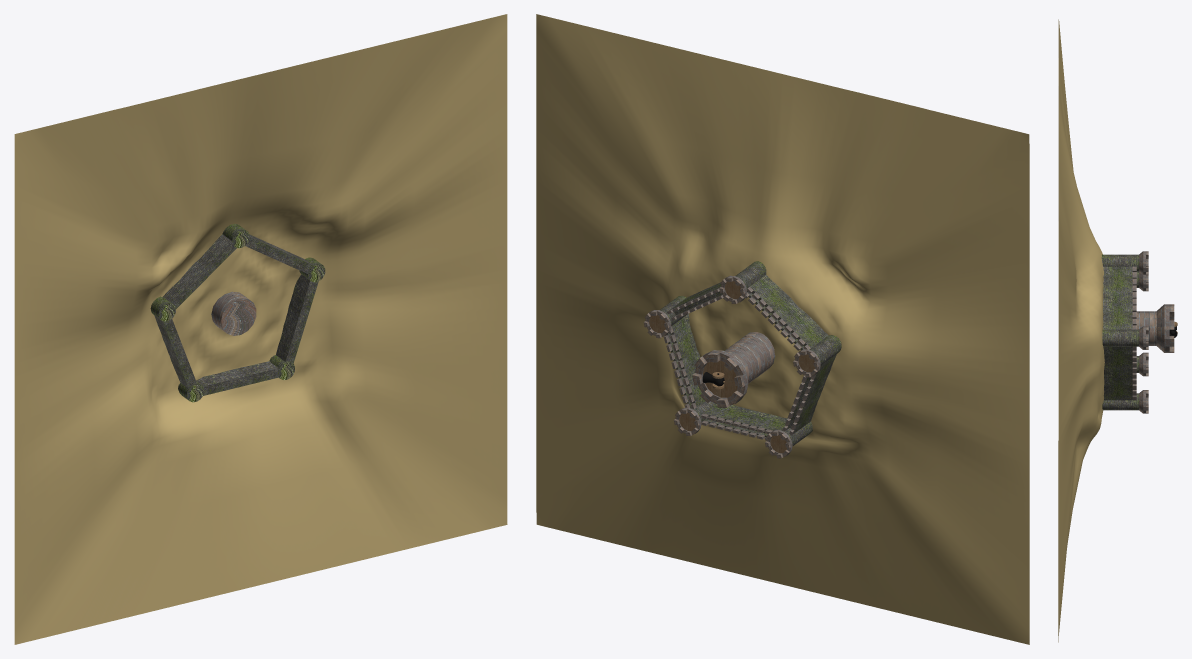
Rendered from castle.DAE.
The picture shows the model from 3 angles, left to right: view 1: azimuth 30°, elevation 25°; view 2: azimuth 150°, elevation 25°; view 3: azimuth 270°, elevation 25°; orthographic projection. The views are drawn at different scales.
Parts seen in each view (by area): view 1: Plane01, wall_part_02_PIVOT, wall_part_04_PIVOT, tower_base_33_PIVOT, wall_part_03_PIVOT, wall_part_01_PIVOT, wall_part_05_PIVOT; view 2: Plane01, wall_part_04_PIVOT, towe_cap_17_PIVOT, wall_part_02_PIVOT, wall_part_03_PIVOT, wall_part_01_PIVOT, tower_base_33_PIVOT, wall_part_05_PIVOT; view 3: Plane01, wall_part_05_PIVOT, wall_part_02_PIVOT, towe_cap_17_PIVOT, tower_base_45_PIVOT, tower_base_33_PIVOT, tower_base_44_PIVOT, tower_base_23_PIVOT, towe_cap_22_PIVOT, towe_cap_12_PIVOT, towe_cap_24_PIVOT, towe_cap_25_PIVOT.
Boxes of the visible parts, box(x1,y1,x2,y2) form: Plane01: box(14, 14, 507, 644); wall_part_02_PIVOT: box(276, 274, 318, 363); wall_part_04_PIVOT: box(163, 234, 236, 308); tower_base_33_PIVOT: box(211, 291, 256, 335); wall_part_03_PIVOT: box(196, 361, 278, 395); wall_part_01_PIVOT: box(154, 315, 196, 388); wall_part_05_PIVOT: box(245, 234, 312, 273); Plane01: box(536, 14, 1029, 644); wall_part_04_PIVOT: box(745, 275, 828, 350); towe_cap_17_PIVOT: box(692, 350, 748, 407); wall_part_02_PIVOT: box(663, 313, 704, 408); wall_part_03_PIVOT: box(701, 404, 788, 440); wall_part_01_PIVOT: box(782, 354, 836, 435); tower_base_33_PIVOT: box(725, 332, 775, 383); wall_part_05_PIVOT: box(666, 282, 724, 320); Plane01: box(1058, 19, 1104, 642); wall_part_05_PIVOT: box(1103, 266, 1136, 329); wall_part_02_PIVOT: box(1103, 346, 1136, 400); towe_cap_17_PIVOT: box(1156, 304, 1174, 352); tower_base_45_PIVOT: box(1102, 329, 1139, 346); tower_base_33_PIVOT: box(1136, 311, 1156, 345); tower_base_44_PIVOT: box(1101, 254, 1139, 271); tower_base_23_PIVOT: box(1102, 393, 1139, 410); towe_cap_22_PIVOT: box(1139, 352, 1148, 376); towe_cap_12_PIVOT: box(1139, 390, 1148, 413); towe_cap_24_PIVOT: box(1139, 251, 1148, 274); towe_cap_25_PIVOT: box(1139, 326, 1148, 349).
Size of the model in its own units: 221 by 55.06 by 219.
